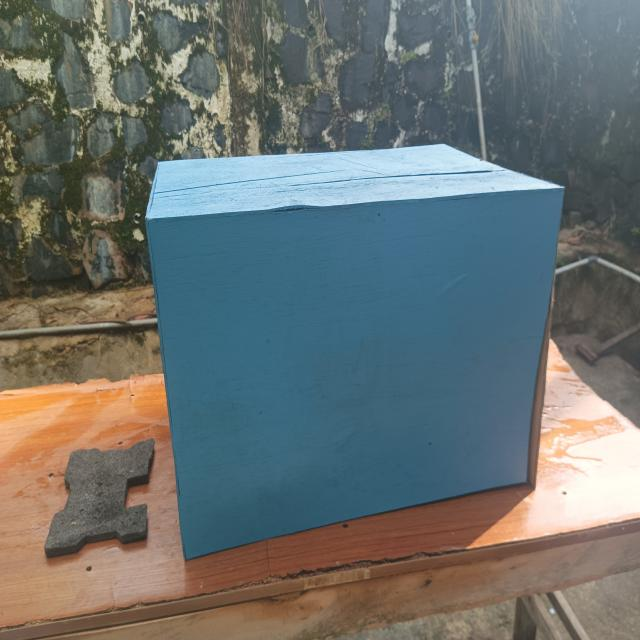blue_box: (140, 135, 570, 560)
